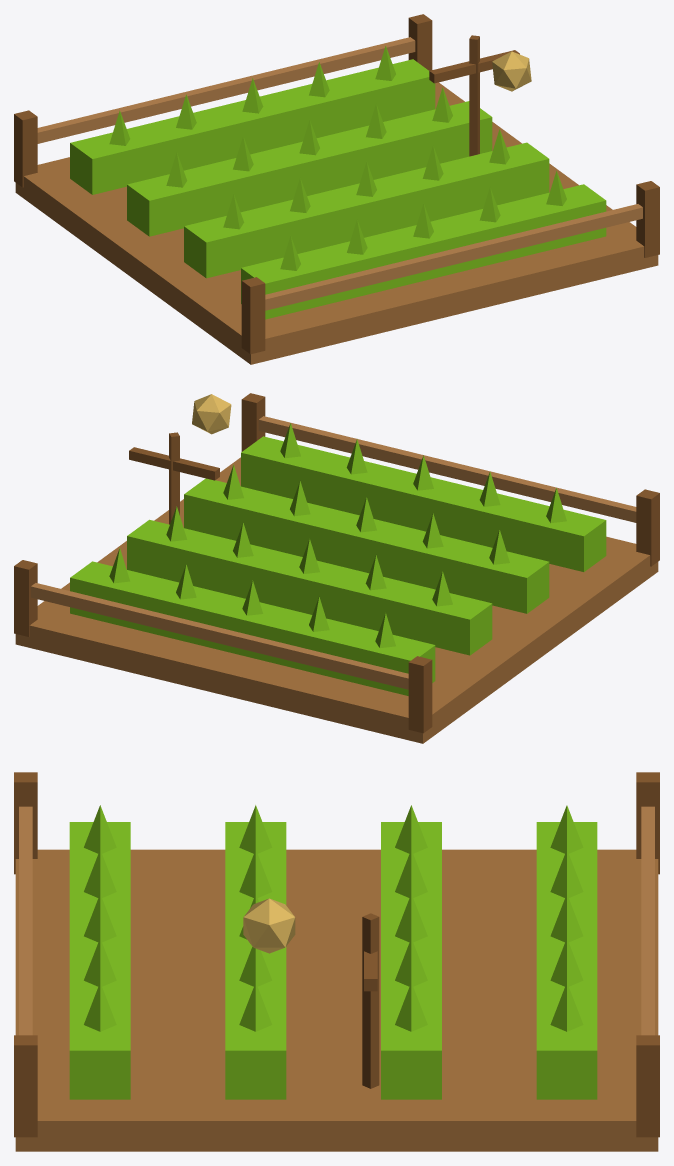
Rendered from farm.glb.
3 views of the same model, one above another, from view 1: azimuth 30°, elevation 25°; view 2: azimuth 150°, elevation 25°; view 3: azimuth 270°, elevation 25° (orthographic). The views are drawn at different scales.
Visible parts, largest first — view 1: rows_plantacao, terra, madeira.005, madeira_escura.007, palha.003; view 2: rows_plantacao, terra, madeira.005, madeira_escura.007, palha.003; view 3: terra, rows_plantacao, madeira_escura.007, madeira.005, palha.003.
Boxes of the visible parts, <box> form: rows_plantacao: <box>70,46,606,319</box>; terra: <box>15,82,658,364</box>; madeira.005: <box>37,37,642,310</box>; madeira_escura.007: <box>14,14,659,354</box>; palha.003: <box>492,51,531,91</box>; rows_plantacao: <box>70,423,606,695</box>; terra: <box>15,457,658,743</box>; madeira.005: <box>31,416,636,689</box>; madeira_escura.007: <box>14,393,659,733</box>; palha.003: <box>192,394,231,434</box>; terra: <box>15,849,658,1151</box>; rows_plantacao: <box>69,805,597,1099</box>; madeira_escura.007: <box>14,772,659,1137</box>; madeira.005: <box>19,806,654,1035</box>; palha.003: <box>243,898,295,953</box>.
Bounding box in the file's own units: 1.91 × 0.71 × 1.91.
